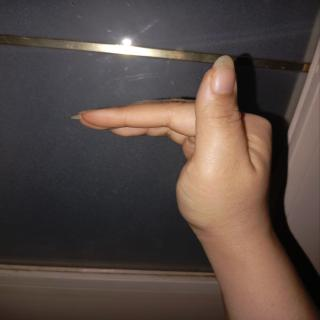KHAA: (69, 52, 298, 241)
